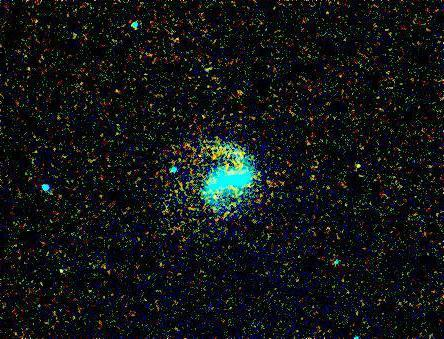star: (349, 151, 379, 181)
